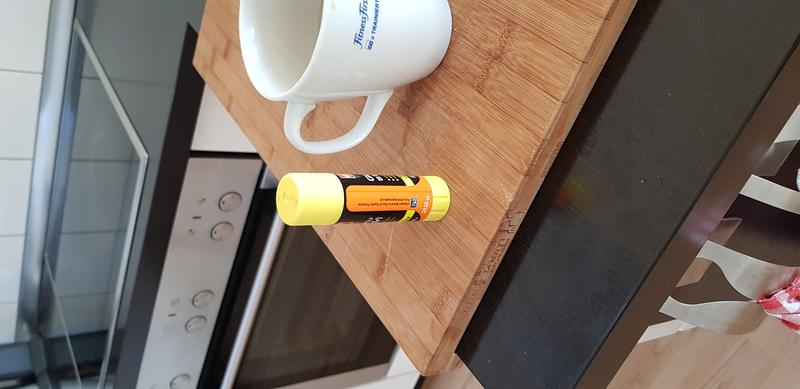Glue-Stick: (269, 169, 454, 227)
